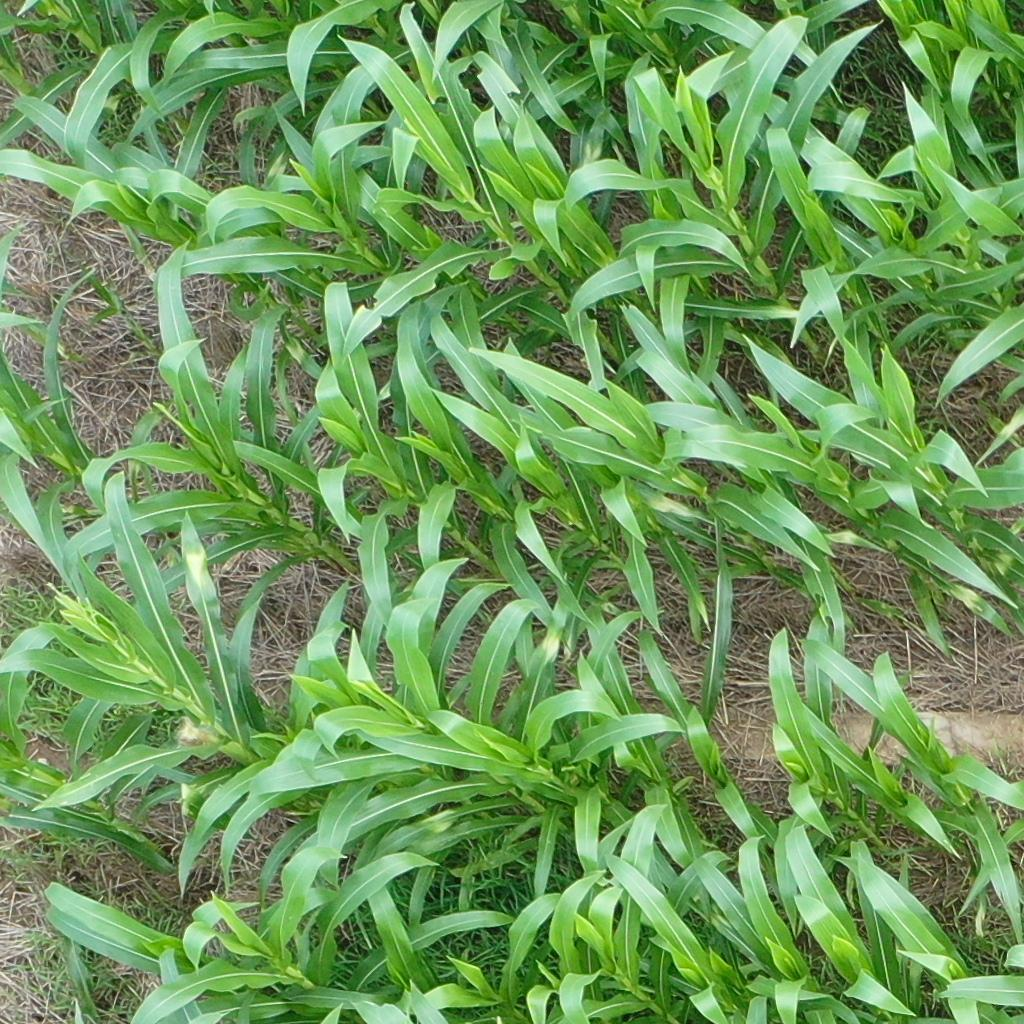Tassel: (44, 582, 98, 629)
